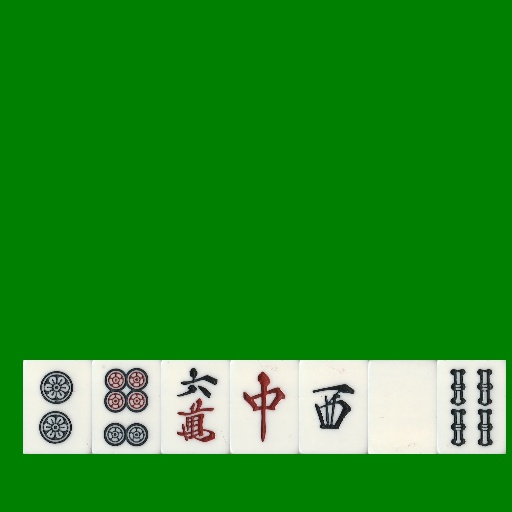2p: (23, 360, 92, 454)
4s: (437, 360, 506, 454)
6m: (161, 360, 230, 454)
6p: (92, 360, 161, 454)
tyun: (230, 360, 299, 454)
west: (299, 360, 368, 454)
white: (368, 360, 437, 454)
